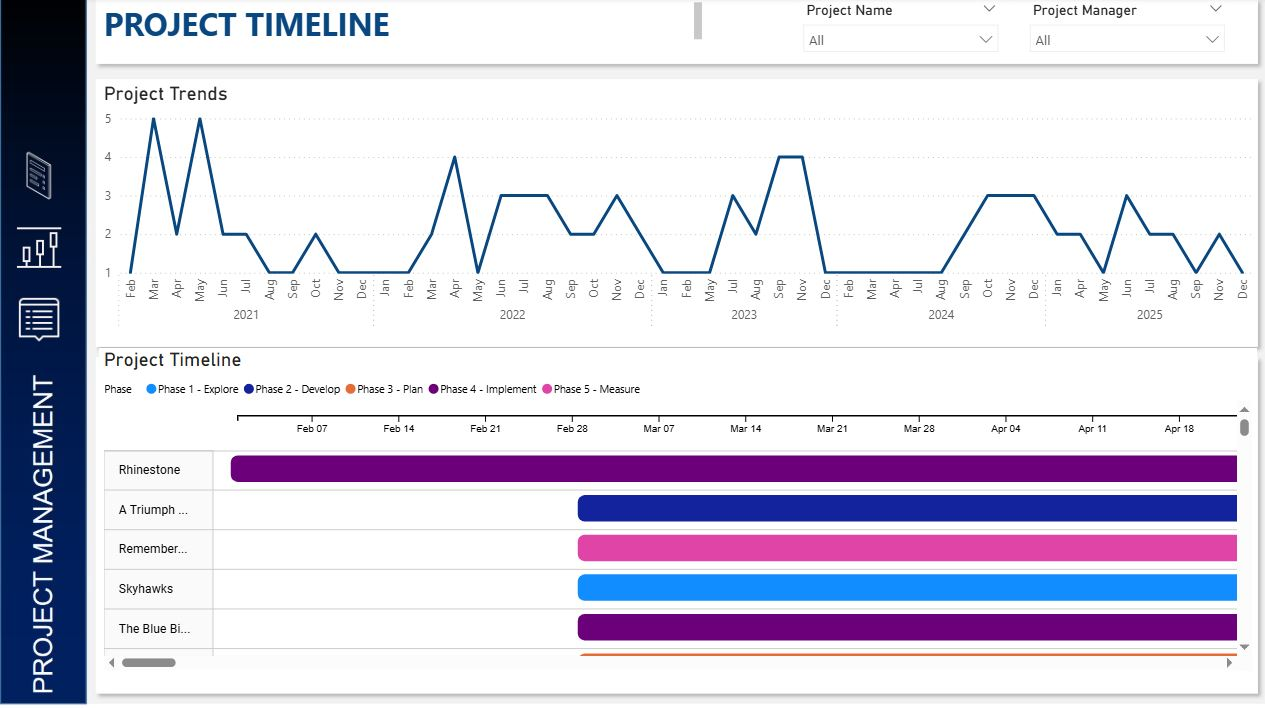

Layout of this report page (visuals, bound fields, positions):
{"tool":"powerbi","page":{"name":"Project Timeline","canvas":[1280,720],"ordinal":1},"visuals":[{"type":"slicer","fields":{"Values":["Project Management Dataset (1).Project Name"]},"box":[801.7,0,216.7,66.7],"z":0},{"type":"slicer","fields":{"Values":["Project Management Dataset (1).Project Manager"]},"box":[1030,0,216.7,66.7],"z":1000},{"type":"textbox","box":[100,0,613.3,50],"z":2000},{"type":"lineChart","title":"Project Trends","fields":{"Y":["Measures (2).Total Projects"],"Category":["Date Table.Year","Date Table.Month Name"]},"box":[100,86.7,1168.3,256.7],"z":3000},{"type":"Gantt1448688115699","title":"Project Timeline","fields":{"Legend":["Project Management Dataset (1).Phase"],"Task":["Project Management Dataset (1).Project Name"],"Completion":["Sum(Project Management Dataset (1).Completion%)"],"StartDate":["Project Management Dataset (1).Start Date"],"EndDate":["Min(Project Management Dataset (1).End Date)"]},"box":[100,355,1168.3,330],"z":4000},{"type":"image","box":[15,300,48.3,48.3],"z":5000},{"type":"image","box":[15,228.3,48.3,48.3],"z":6000},{"type":"image","box":[15,156.7,48.3,48.3],"z":7000}]}

Visuals, with their boxes on the page's 1280x720 design canvas (x1, y1, x2, y2). These are canvas units, not pixel positions in the 1265x708 screenshot, which may show the page scaled, cropped or inside an application window:
slicer - Project Management Dataset (1).Project Name: (802, 0, 1018, 67)
slicer - Project Management Dataset (1).Project Manager: (1030, 0, 1247, 67)
textbox: (100, 0, 713, 50)
"Project Trends" lineChart: (100, 87, 1268, 343)
"Project Timeline" Gantt1448688115699: (100, 355, 1268, 685)
image: (15, 300, 63, 348)
image: (15, 228, 63, 277)
image: (15, 157, 63, 205)
